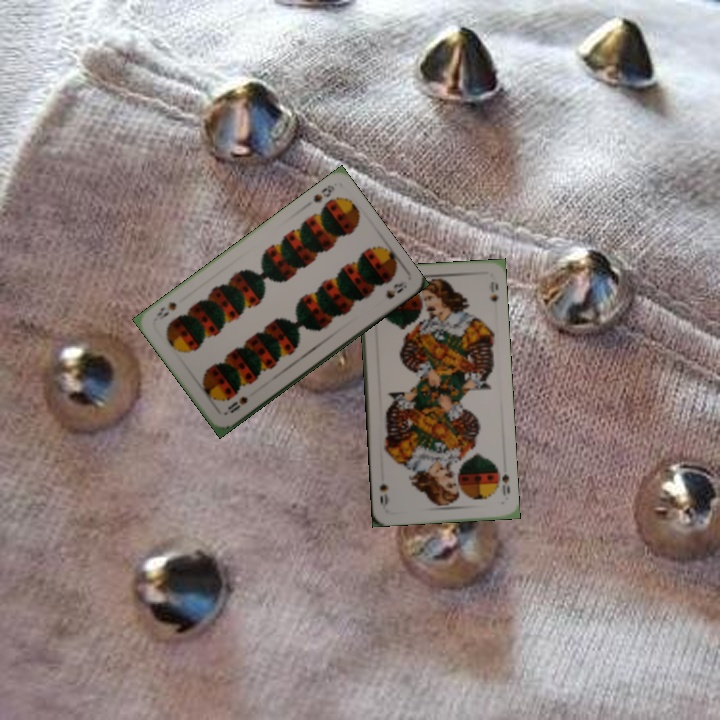S8: (309, 181, 337, 205), (224, 392, 251, 416)
SO: (498, 470, 513, 498)
